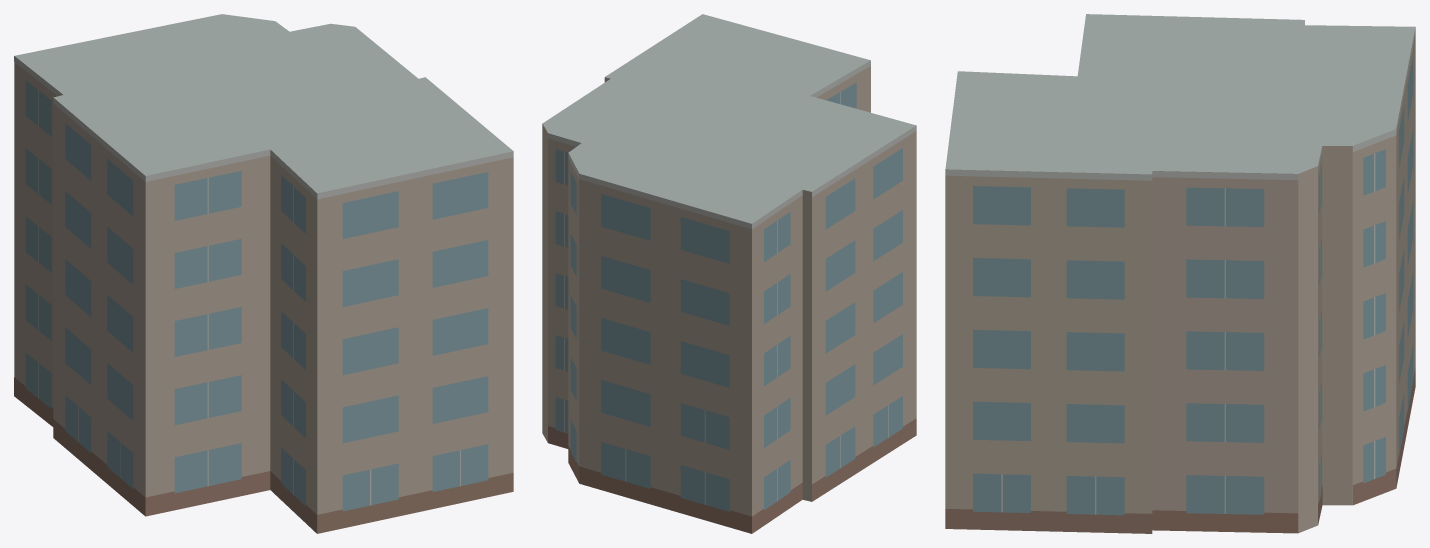
Rendered from survey-upis-32821855.glb.
3 views of the same model, side by side, from view 1: azimuth 30°, elevation 25°; view 2: azimuth 150°, elevation 25°; view 3: azimuth 270°, elevation 25° (orthographic). The views are drawn at different scales.
Visible parts, largest first — view 1: survey-upis-32821855.tmp; view 2: survey-upis-32821855.tmp; view 3: survey-upis-32821855.tmp.
Part boxes in pixels (x1,y1,x2,y2): survey-upis-32821855.tmp: (14, 14, 513, 533); survey-upis-32821855.tmp: (542, 14, 916, 533); survey-upis-32821855.tmp: (945, 14, 1415, 533).
Size of the model in its own units: 13.31 by 13.9 by 16.49.
